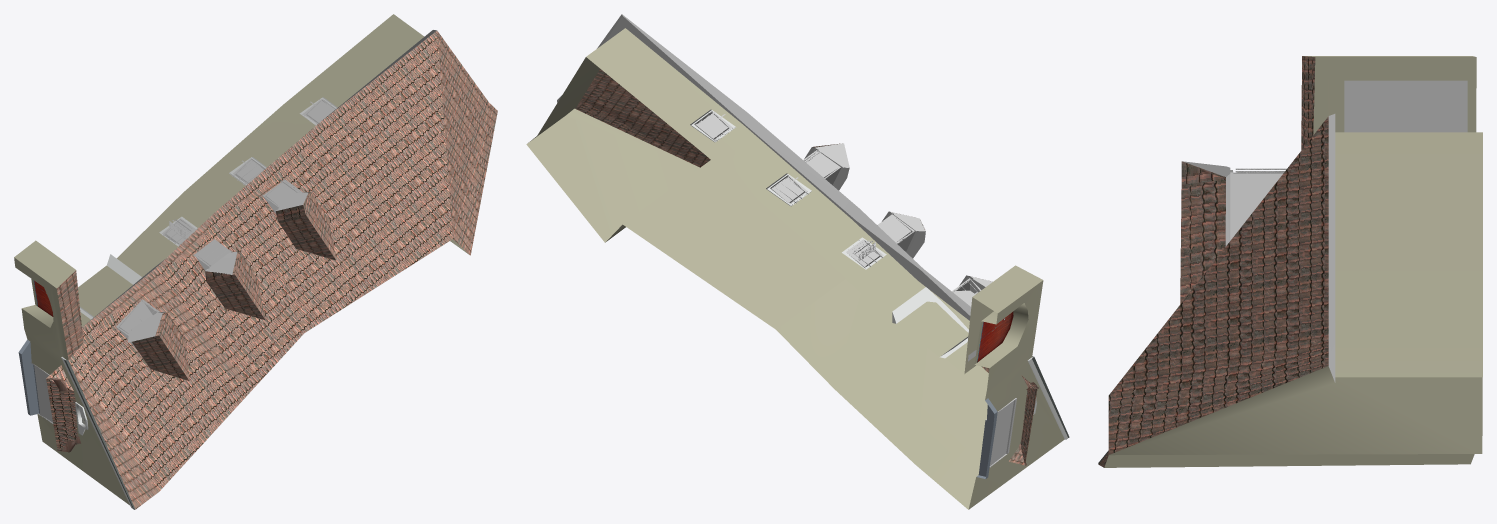
The model's file is Nunne_10-origo.obj.
The picture shows the model from 3 angles, left to right: view 1: azimuth 30°, elevation 25°; view 2: azimuth 150°, elevation 25°; view 3: azimuth 270°, elevation 25°; orthographic projection. The views are drawn at different scales.
Visible parts, largest first — view 1: Nunne_10; view 2: Nunne_10; view 3: Nunne_10.
Part boxes in pixels (<box>): Nunne_10: <box>14,14,497,509</box>; Nunne_10: <box>526,14,1069,509</box>; Nunne_10: <box>1098,56,1482,467</box>.
Bounding box in the file's own units: 22.25 × 16.5 × 8.23.
